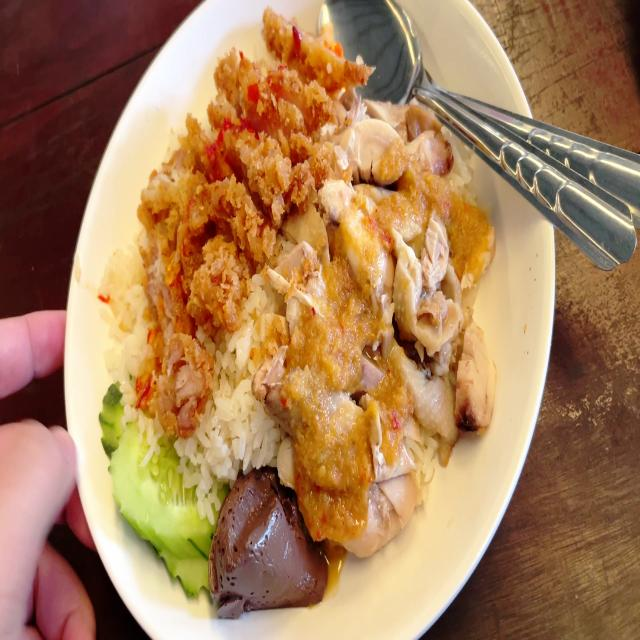boiled_chicken: (278, 120, 488, 540)
boiled_chicken_blood_jelly: (211, 459, 324, 612)
chicken_rice: (98, 5, 499, 607)
cucumber: (94, 356, 224, 586)
fried_chicken: (132, 9, 312, 373)
